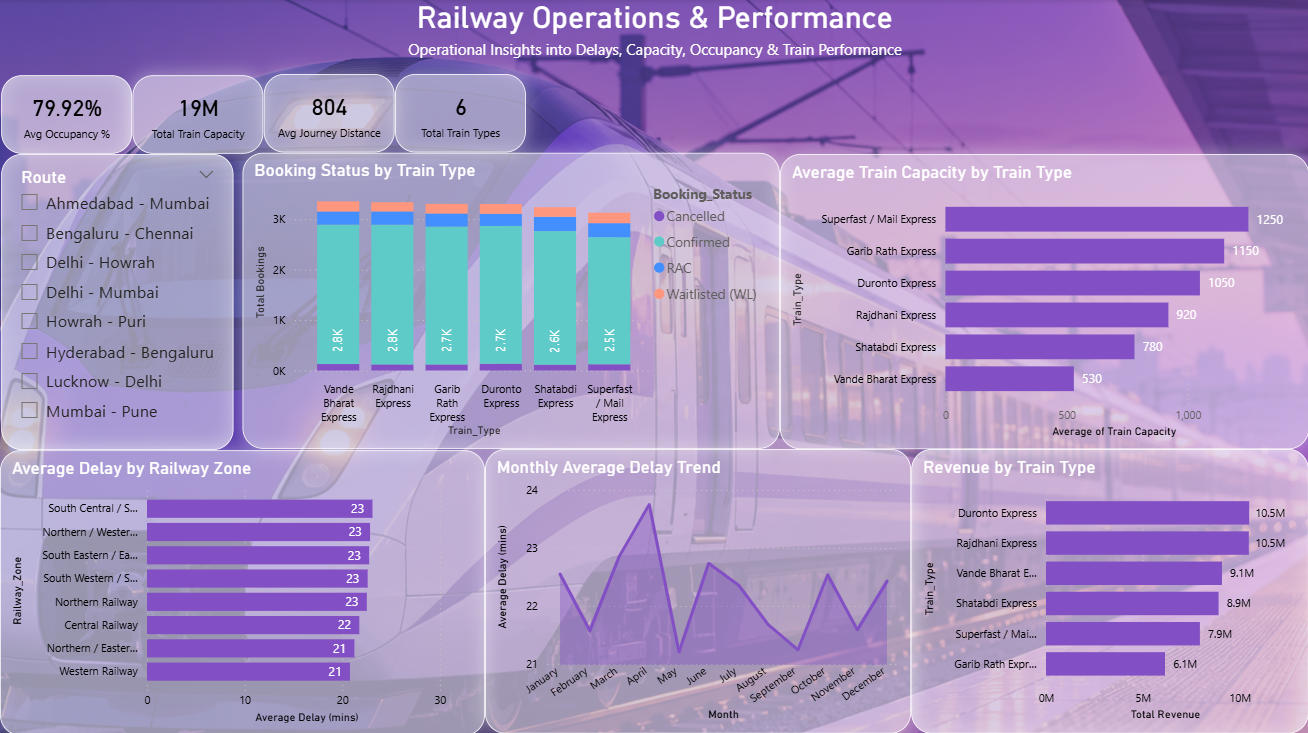

This screenshot's page, from the dashboard's own definition file:
{"tool":"powerbi","page":{"name":"Railway Operations & Performance","canvas":[1280,720],"ordinal":1},"visuals":[{"type":"card","fields":{"Values":["irctc_business_insights_synthetic_data (2).Average Occupancy %"]},"box":[1.2,74.6,128.4,77],"z":0},{"type":"card","fields":{"Values":["irctc_business_insights_synthetic_data (2).Total Train Capacity"]},"box":[129.6,74.6,128.4,77],"z":1000},{"type":"card","fields":{"Values":["irctc_business_insights_synthetic_data (2).Average Journey Distance"]},"box":[258,73.4,128.4,77],"z":2000},{"type":"card","fields":{"Values":["irctc_business_insights_synthetic_data (2).Total Train Types"]},"box":[386.4,73.4,128.4,77],"z":3000},{"type":"clusteredBarChart","title":"Average Delay by Railway Zone","fields":{"Category":["irctc_business_insights_synthetic_data (2).Railway_Zone"],"Y":["irctc_business_insights_synthetic_data (2).Avg Delay (mins)"]},"box":[0,441.4,474.5,278.8],"z":4000},{"type":"columnChart","title":"Booking Status by Train Type","fields":{"Category":["irctc_business_insights_synthetic_data (2).Train_Type"],"Y":["irctc_business_insights_synthetic_data (2).Total Bookings"],"Series":["irctc_business_insights_synthetic_data (2).Booking_Status"]},"box":[237.2,150.4,525.8,289.8],"z":5000},{"type":"barChart","title":"Revenue by Train Type","fields":{"Category":["irctc_business_insights_synthetic_data (2).Train_Type"],"Y":["irctc_business_insights_synthetic_data (2).Total Revenue"]},"box":[891.4,440.2,388.9,278],"z":6000},{"type":"clusteredBarChart","title":"Average Train Capacity by Train Type","fields":{"Y":["irctc_business_insights_synthetic_data (2).Average of Train Capacity"],"Category":["irctc_business_insights_synthetic_data (2).Train_Type"]},"box":[763,151.6,517.3,289],"z":7000},{"type":"slicer","fields":{"Values":["irctc_business_insights_synthetic_data (2).Route"]},"box":[1.2,151.6,227.4,289.8],"z":8000},{"type":"areaChart","title":"Monthly Average Delay Trend","fields":{"Category":["irctc_business_insights_synthetic_data (2).Booking_Date.Variation.Date Hierarchy.Month"],"Y":["irctc_business_insights_synthetic_data (2).Average Delay (mins)"]},"box":[474.5,440.2,417,278],"z":9000},{"type":"textbox","title":"Railway Operations & Performance","box":[1.2,0,1279.1,64.8],"z":10000}]}

Visuals, with their boxes in screenshot pixels (x1, y1, x2, y2), scaled from the page's 1280x720 canvas onto the 1308x733 screenshot:
card - irctc_business_insights_synthetic_data (2).Average Occupancy %: (1,76,132,154)
card - irctc_business_insights_synthetic_data (2).Total Train Capacity: (132,76,264,154)
card - irctc_business_insights_synthetic_data (2).Average Journey Distance: (264,75,395,153)
card - irctc_business_insights_synthetic_data (2).Total Train Types: (395,75,526,153)
"Average Delay by Railway Zone" clusteredBarChart: (0,449,485,732)
"Booking Status by Train Type" columnChart: (242,153,780,448)
"Revenue by Train Type" barChart: (911,448,1307,731)
"Average Train Capacity by Train Type" clusteredBarChart: (780,154,1307,449)
slicer - irctc_business_insights_synthetic_data (2).Route: (1,154,234,449)
"Monthly Average Delay Trend" areaChart: (485,448,911,731)
"Railway Operations & Performance" textbox: (1,0,1307,66)
